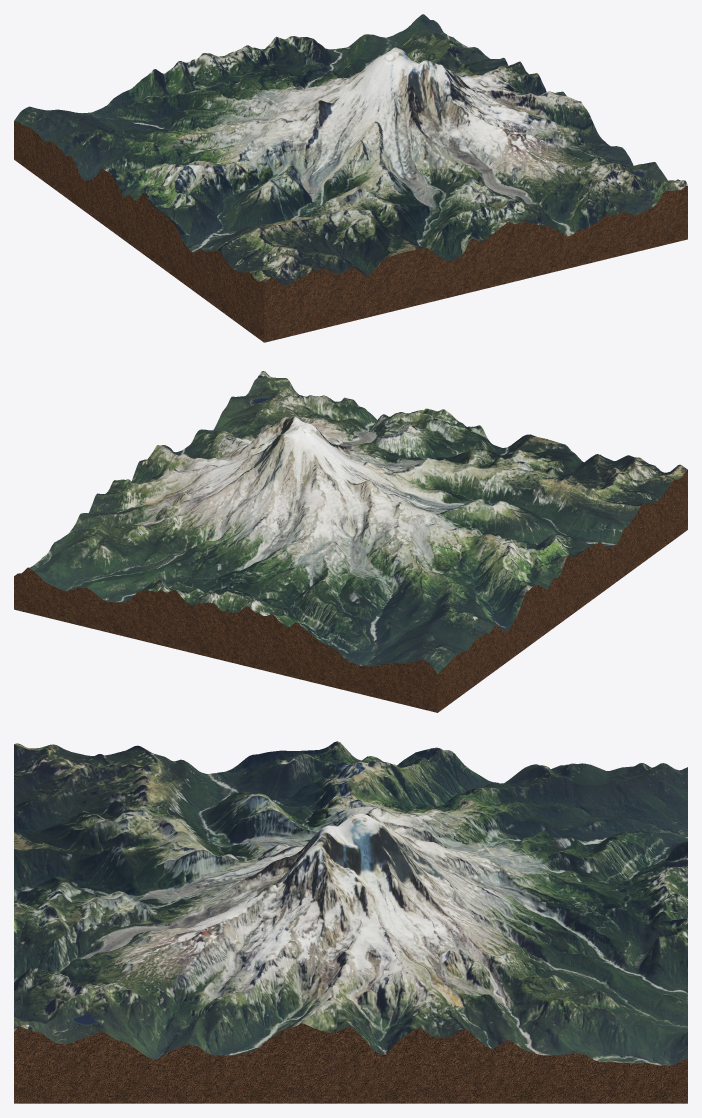
The model's file is exp.glb.
The picture shows the model from 3 angles, top to bottom: view 1: azimuth 30°, elevation 25°; view 2: azimuth 150°, elevation 25°; view 3: azimuth 270°, elevation 25°; orthographic projection. The views are drawn at different scales.
Parts seen in each view (by area): view 1: tinMesh, side_north_tin, side_east_tin; view 2: tinMesh, side_south_tin, side_east_tin; view 3: tinMesh, side_west_tin.
Boxes of the visible parts, x1,y1,x2,y2 form: tinMesh: (14, 14, 687, 285); side_north_tin: (264, 186, 687, 342); side_east_tin: (14, 121, 264, 342); tinMesh: (30, 371, 687, 673); side_south_tin: (14, 567, 437, 712); side_east_tin: (437, 469, 687, 712); tinMesh: (14, 741, 687, 1065); side_west_tin: (14, 1023, 687, 1103).
Size of the model in its own units: 78.57 by 23.59 by 80.36.
2 materials, 2 textured.
